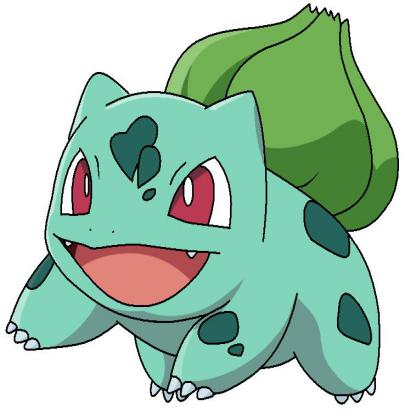Bulbasaur: (9, 1, 409, 416)
